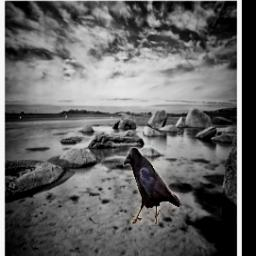Crow: (123, 147, 179, 225)
